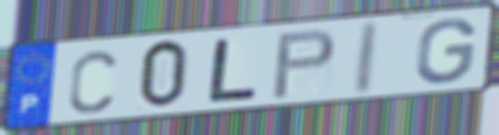0: (136, 37, 194, 114)
C: (66, 48, 120, 117)
G: (413, 16, 479, 87)
I: (348, 18, 383, 98)
L: (204, 37, 260, 105)
P: (268, 27, 339, 101)
